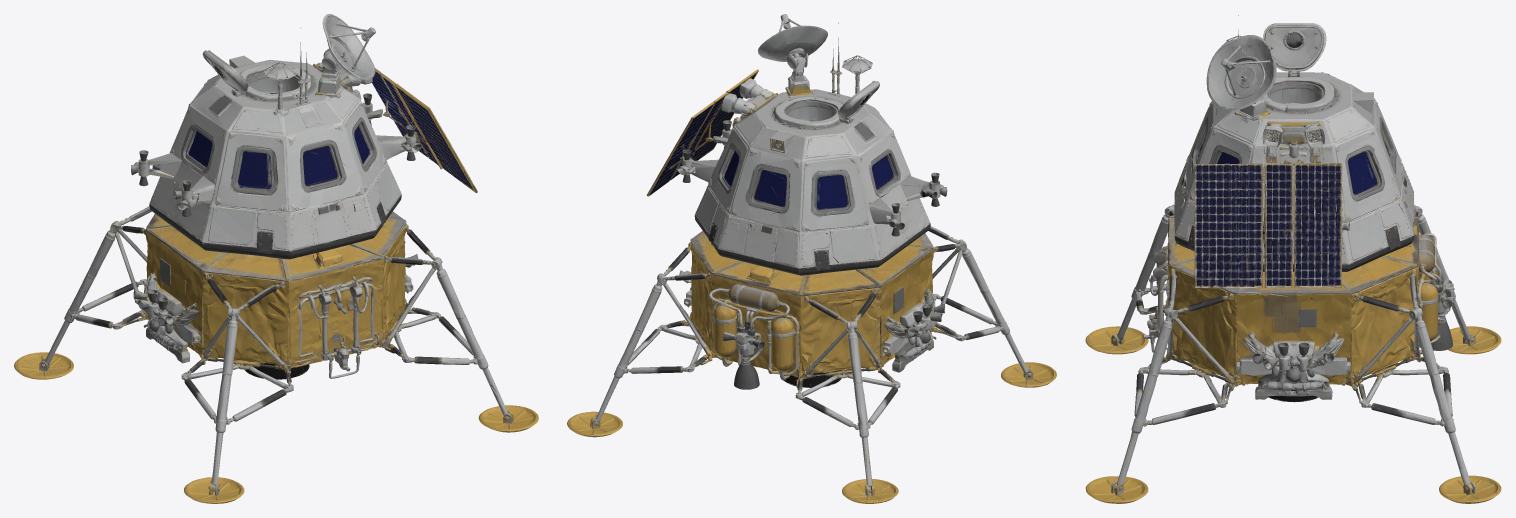
File: lander.glb
3 views of the same model, side by side, from view 1: azimuth 30°, elevation 25°; view 2: azimuth 150°, elevation 25°; view 3: azimuth 270°, elevation 25° (orthographic). The views are drawn at different scales.
Parts seen in each view (by area): view 1: Mesh_0; view 2: Mesh_0; view 3: Mesh_0.
Boxes of the visible parts, x1,y1,x2,y2 form: Mesh_0: (14, 14, 538, 503); Mesh_0: (567, 14, 1056, 503); Mesh_0: (1085, 15, 1501, 503).
Size of the model in its own units: 1.78 by 1.92 by 1.78.
Materials: 1 (1 with a texture image).
